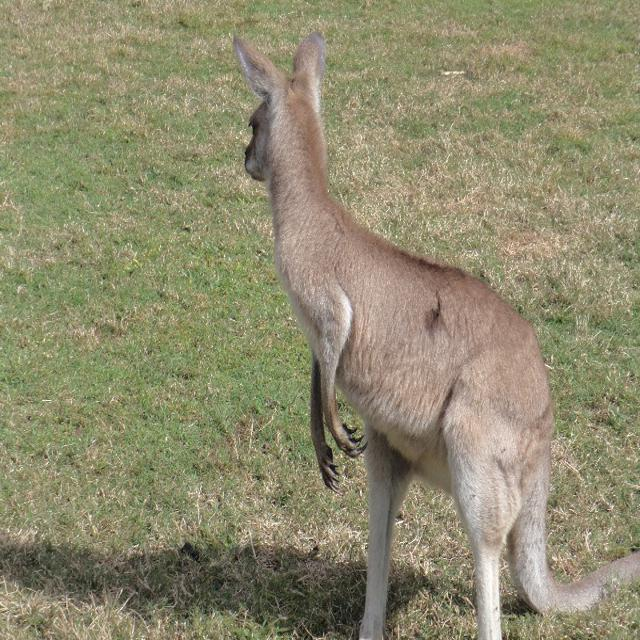kangaroo: (216, 27, 559, 638)
